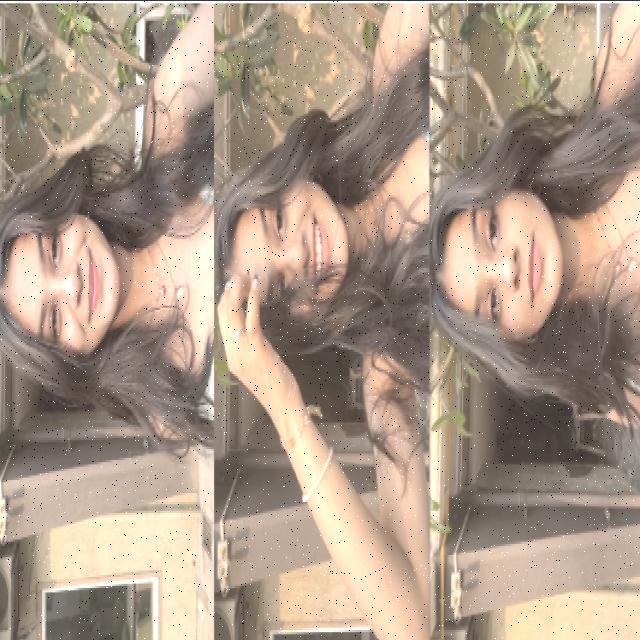face_no_mask: (437, 179, 563, 353), (234, 168, 350, 338), (0, 210, 122, 356)
